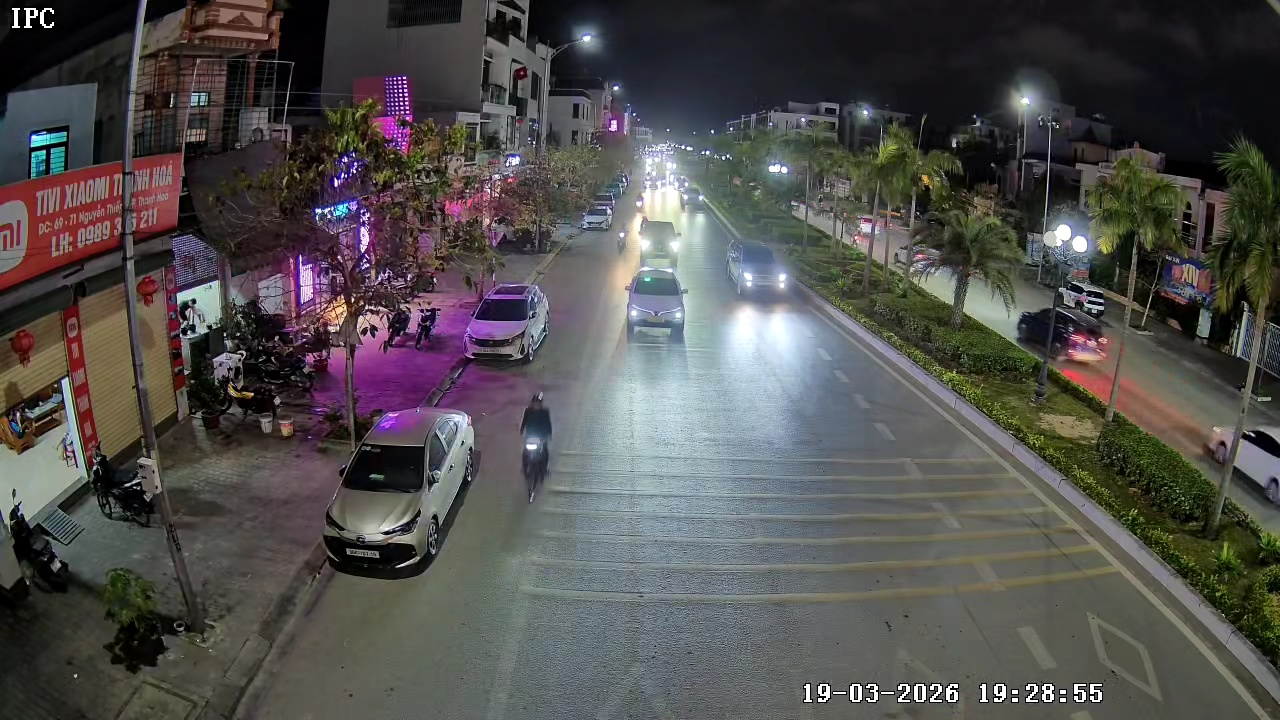car: (323, 405, 479, 576), (464, 281, 552, 365), (624, 264, 690, 343), (725, 239, 790, 299), (638, 216, 683, 261), (581, 202, 615, 231), (678, 185, 707, 211)
motorbike: (516, 390, 557, 499)
